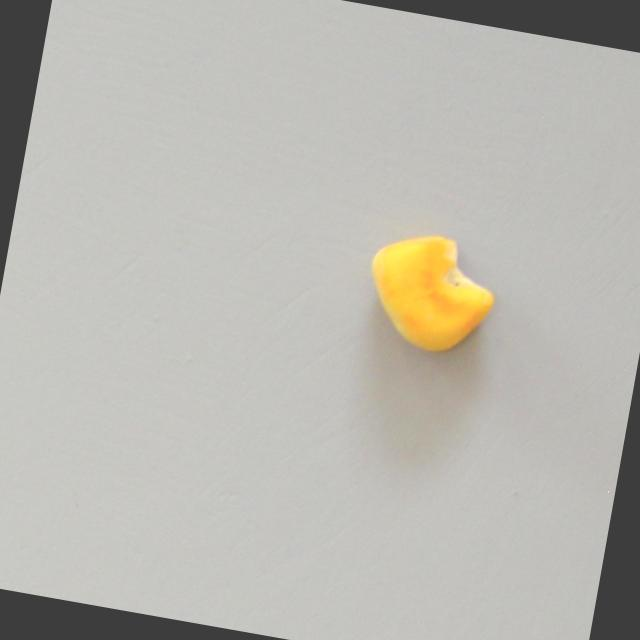punto_negro: (356, 225, 506, 364)
